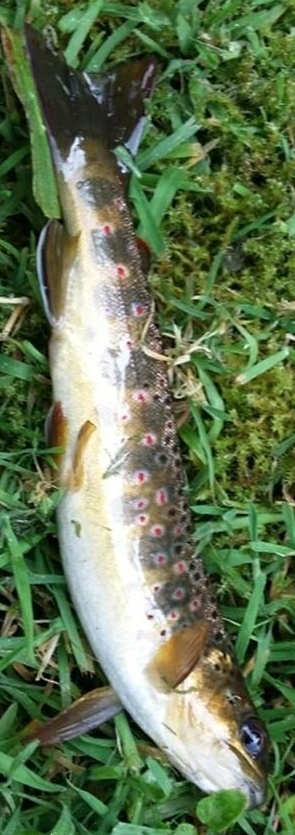Salmo trutta subsp. fario: (20, 20, 275, 815)
